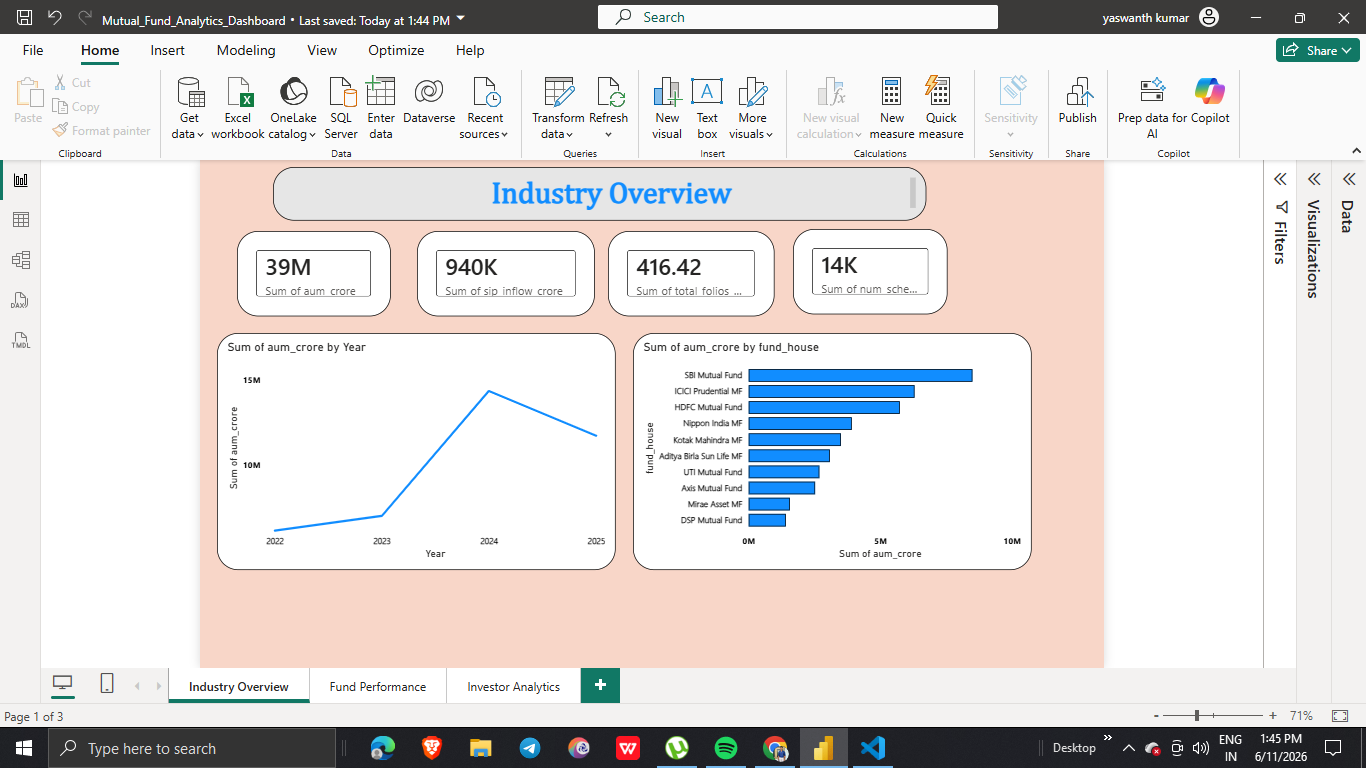

This screenshot's page, from the dashboard's own definition file:
{"tool":"powerbi","page":{"name":"Industry Overview","canvas":[1280,720],"ordinal":0},"visuals":[{"type":"cardVisual","fields":{"Data":["Sum(03_aum_by_fund_house.aum_crore)"]},"box":[52.2,100,217.8,120.8],"z":0},{"type":"cardVisual","fields":{"Data":["Sum(06_industry_folio_count.total_folios_crore)"]},"box":[578.8,100,235.7,120.8],"z":1},{"type":"cardVisual","fields":{"Data":["Sum(04_monthly_sip_inflows_cleaned.sip_inflow_crore)"]},"box":[307.3,100,252.1,120.8],"z":2},{"type":"cardVisual","fields":{"Data":["Sum(03_aum_by_fund_house.num_schemes)"]},"box":[839.9,98.5,219.3,120.8],"z":3},{"type":"lineChart","fields":{"Category":["03_aum_by_fund_house.date.Variation.Date Hierarchy.Year","03_aum_by_fund_house.date.Variation.Date Hierarchy.Quarter","03_aum_by_fund_house.date.Variation.Date Hierarchy.Month","03_aum_by_fund_house.date.Variation.Date Hierarchy.Day"],"Y":["Sum(03_aum_by_fund_house.aum_crore)"]},"box":[23.9,244.7,565.4,335.7],"z":4},{"type":"clusteredBarChart","fields":{"Category":["03_aum_by_fund_house.fund_house"],"Y":["Sum(03_aum_by_fund_house.aum_crore)"]},"box":[613.1,244.7,565.4,335.7],"z":5},{"type":"textbox","box":[102.9,10.4,926.4,76.1],"z":6}]}

Visuals, with their boxes on the page's 1280x720 design canvas (x1, y1, x2, y2). These are canvas units, not pixel positions in the 1366x768 screenshot, which may show the page scaled, cropped or inside an application window:
cardVisual - Sum(03_aum_by_fund_house.aum_crore): 52:100:270:221
cardVisual - Sum(06_industry_folio_count.total_folios_crore): 579:100:814:221
cardVisual - Sum(04_monthly_sip_inflows_cleaned.sip_inflow_crore): 307:100:559:221
cardVisual - Sum(03_aum_by_fund_house.num_schemes): 840:98:1059:219
lineChart - 03_aum_by_fund_house.date.Variation.Date Hierarchy.Year x 03_aum_by_fund_house.date.Variation.Date Hierarchy.Quarter: 24:245:589:580
clusteredBarChart - 03_aum_by_fund_house.fund_house x Sum(03_aum_by_fund_house.aum_crore): 613:245:1178:580
textbox: 103:10:1029:86
